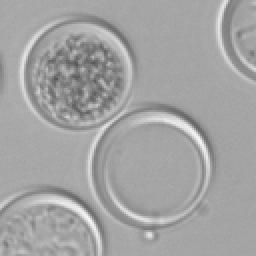picoshell: (88, 104, 212, 228), (88, 106, 212, 228), (18, 16, 134, 130), (0, 186, 104, 254), (216, 0, 254, 82)
